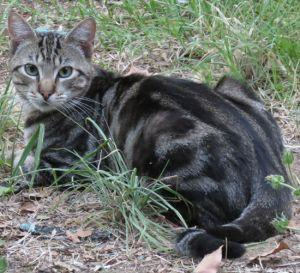bengal: (1, 1, 98, 120)
